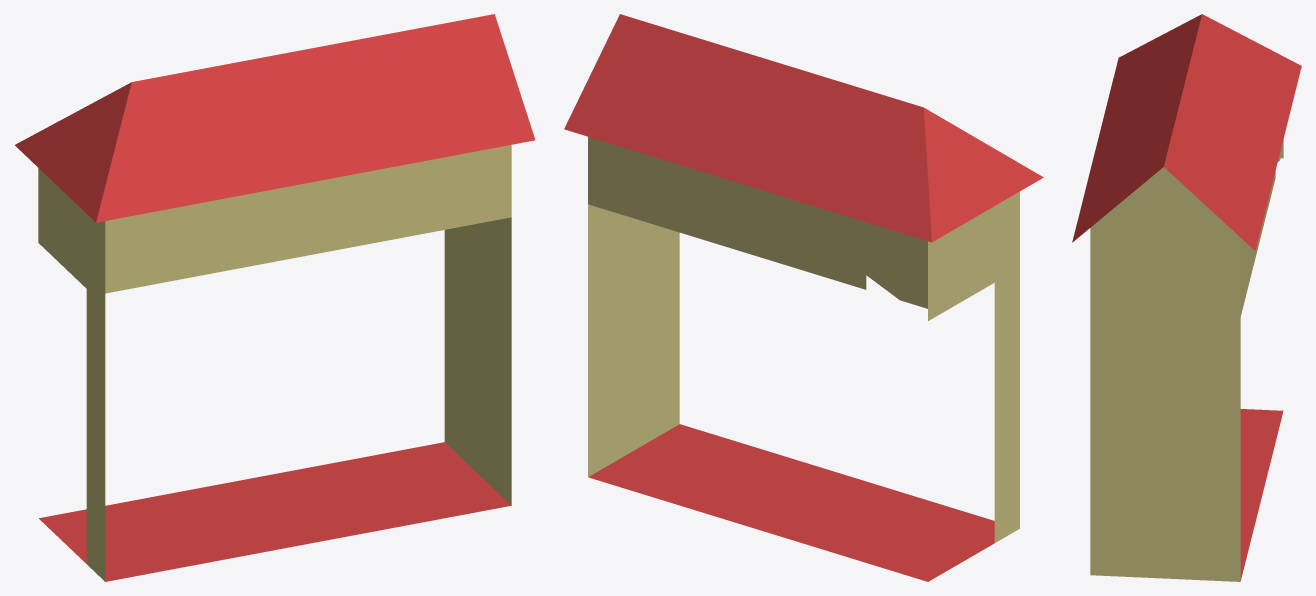
3 renders of one model, left to right at view 1: azimuth 30°, elevation 25°; view 2: azimuth 150°, elevation 25°; view 3: azimuth 270°, elevation 25°, orthographic. The views are drawn at different scales.
Size of the model in its own units: 13.74 by 6.9 by 13.87.
